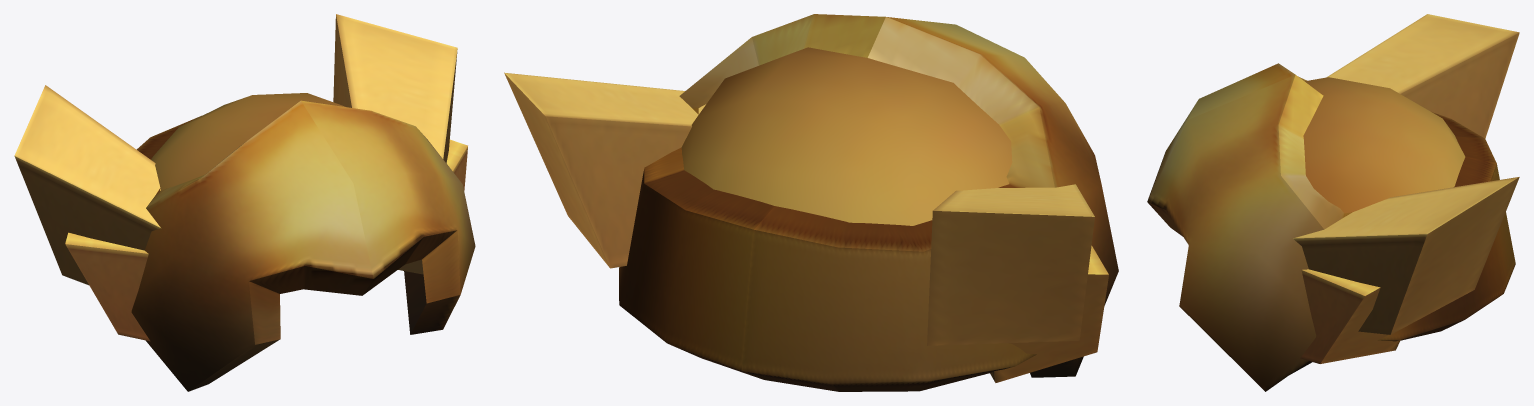
File: Paladin_cap.FBX
The picture shows the model from 3 angles, left to right: view 1: azimuth 30°, elevation 25°; view 2: azimuth 150°, elevation 25°; view 3: azimuth 270°, elevation 25°; orthographic projection. The views are drawn at different scales.
Parts seen in each view (by area): view 1: Paladin_cap; view 2: Paladin_cap; view 3: Paladin_cap.
Part boxes in pixels (bbox=[...]): Paladin_cap: bbox=[14, 14, 475, 391]; Paladin_cap: bbox=[504, 14, 1118, 391]; Paladin_cap: bbox=[1147, 14, 1519, 391].
Bounding box in the file's own units: 122 × 66.55 × 87.41.
